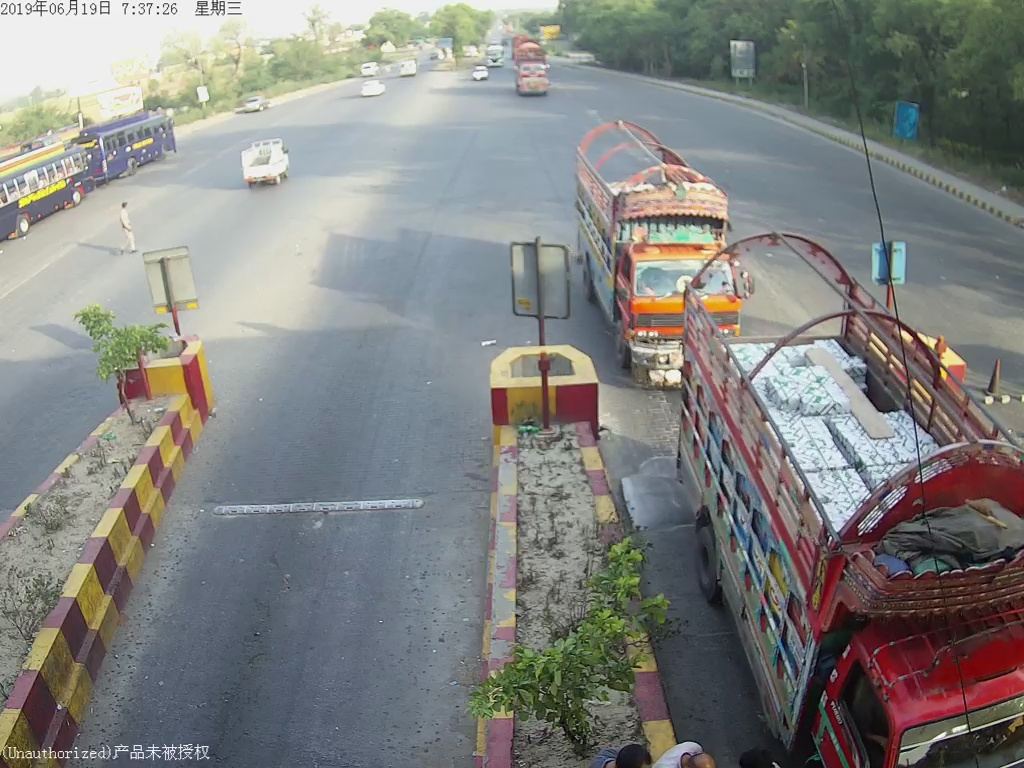Cat-4: (700, 255, 1021, 759), (574, 118, 750, 376)
